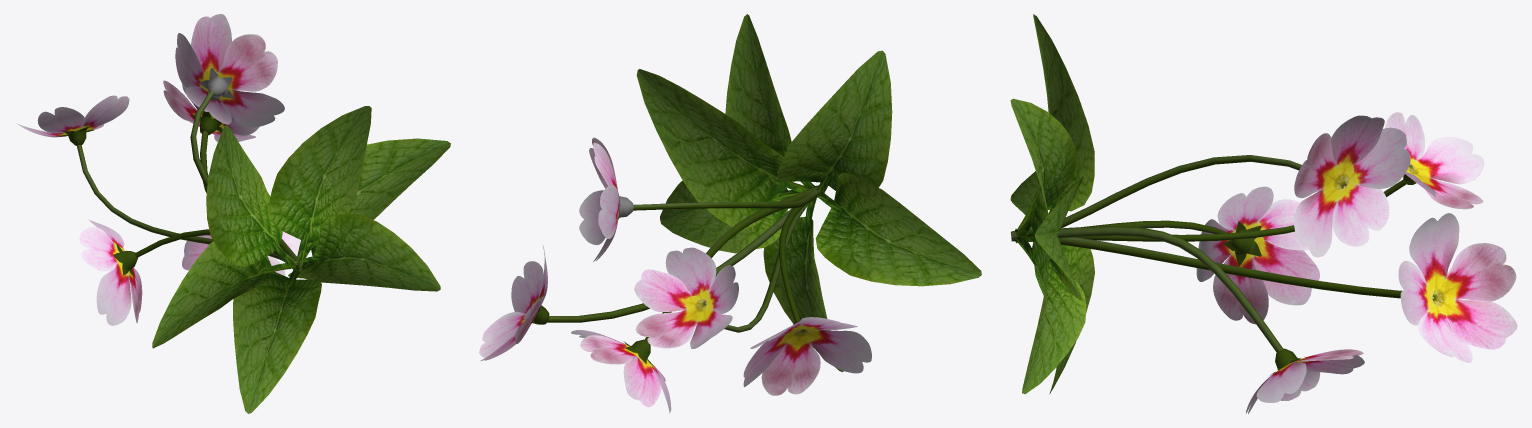
Rendered from PraireRose.fbx.
3 renders of one model, left to right at view 1: azimuth 30°, elevation 25°; view 2: azimuth 150°, elevation 25°; view 3: azimuth 270°, elevation 25°, orthographic. The views are drawn at different scales.
Visible parts, largest first — view 1: Branches; view 2: Branches; view 3: Branches.
Part boxes in pixels (x1,y1,x2,y2): Branches: (16,14,450,413); Branches: (479,14,981,413); Branches: (1010,14,1517,413).
Bounding box in the file's own units: 0.9723 × 1.15 × 0.9034.
Materials: 5 (4 with a texture image).
